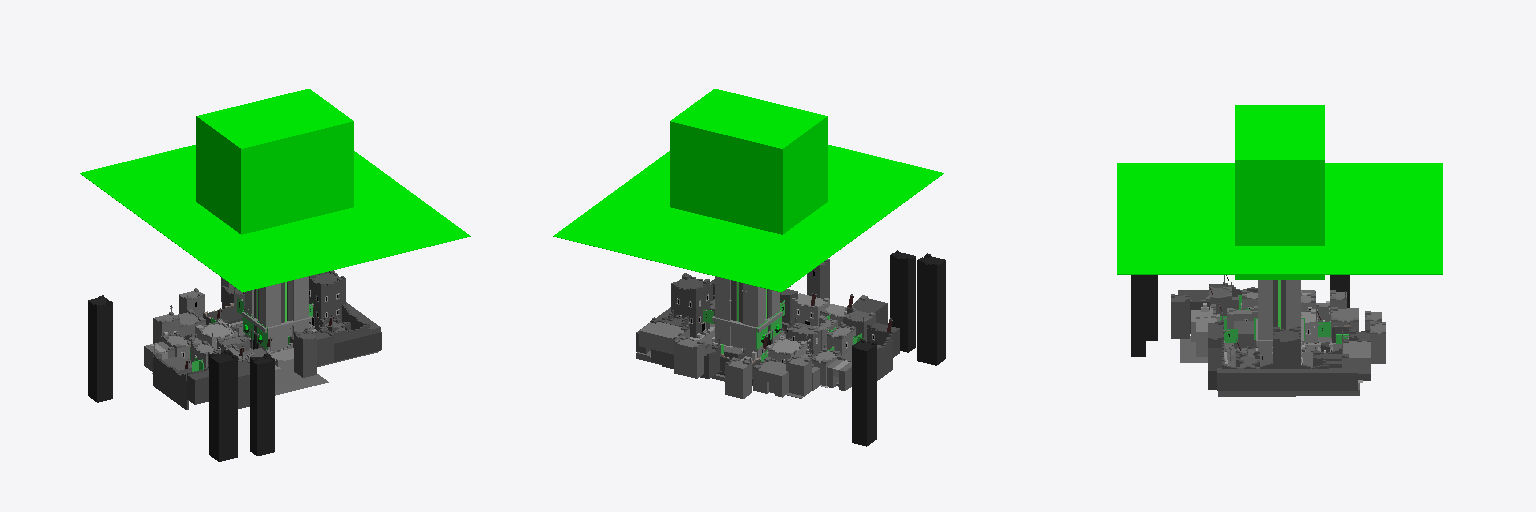
Rendered from Citadel.obj.
The picture shows the model from 3 angles: view 1: azimuth 30°, elevation 25°; view 2: azimuth 150°, elevation 25°; view 3: azimuth 270°, elevation 25°; orthographic projection.
Bounding box in the file's own units: 1016 × 963 × 1073.